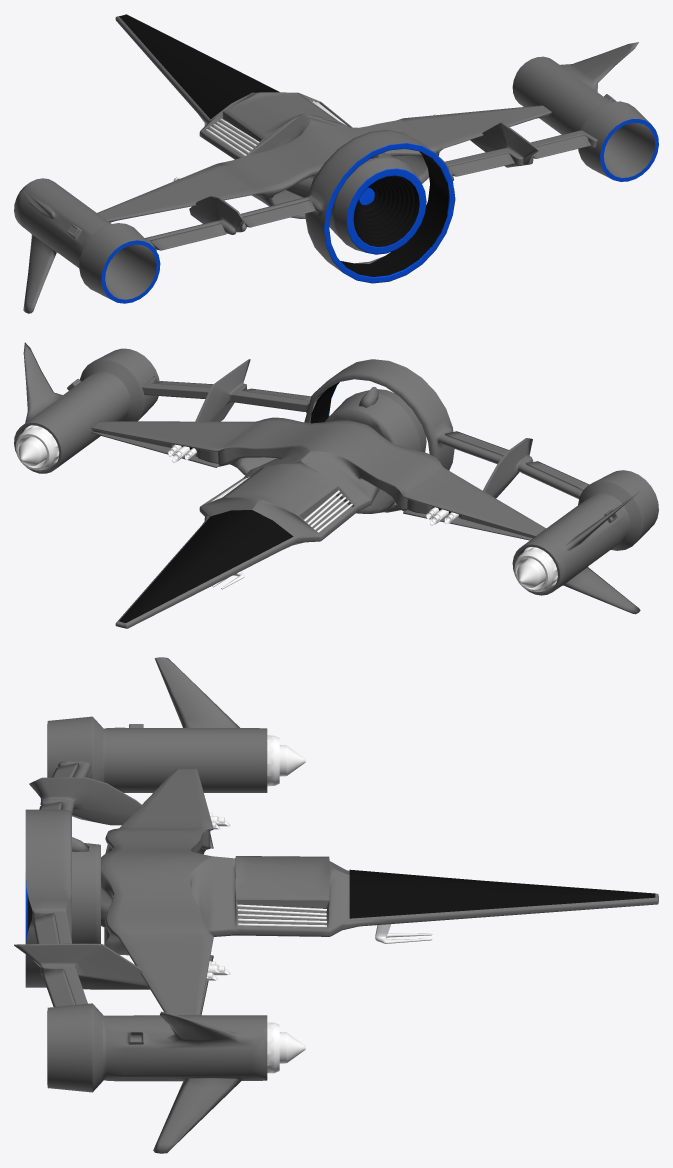
Rendered from NavaPrincipal_High 1.FBX.
3 views of the same model, one above another, from view 1: azimuth 30°, elevation 25°; view 2: azimuth 150°, elevation 25°; view 3: azimuth 270°, elevation 25° (orthographic). The views are drawn at different scales.
Visible parts, largest first — view 1: Body_Air01, Object017, Object019, Object018; view 2: Body_Air01, Object017, Object018; view 3: Body_Air01, Object017, Object018.
Boxes of the visible parts, bbox=[...] form: Body_Air01: bbox=[14, 14, 655, 313]; Object017: bbox=[112, 14, 449, 277]; Object019: bbox=[101, 119, 658, 303]; Object018: bbox=[17, 66, 521, 195]; Body_Air01: bbox=[14, 342, 658, 628]; Object017: bbox=[119, 382, 451, 622]; Object018: bbox=[15, 425, 557, 591]; Body_Air01: bbox=[14, 657, 658, 1153]; Object017: bbox=[27, 869, 655, 932]; Object018: bbox=[206, 735, 432, 1073].
Size of the model in its own units: 770 by 164 by 593.
